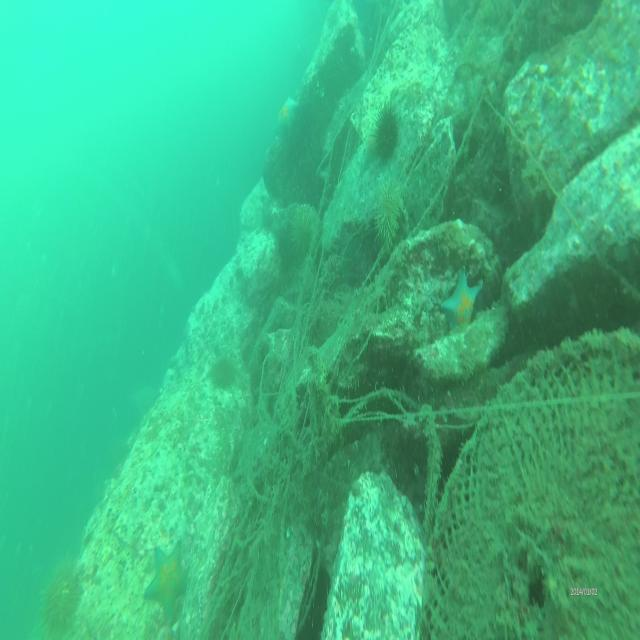echinus: (39, 566, 88, 632), (376, 190, 400, 250), (373, 100, 399, 154), (289, 219, 310, 257), (209, 360, 238, 386)
starfish: (146, 532, 190, 616), (444, 273, 484, 340), (274, 94, 298, 129)
